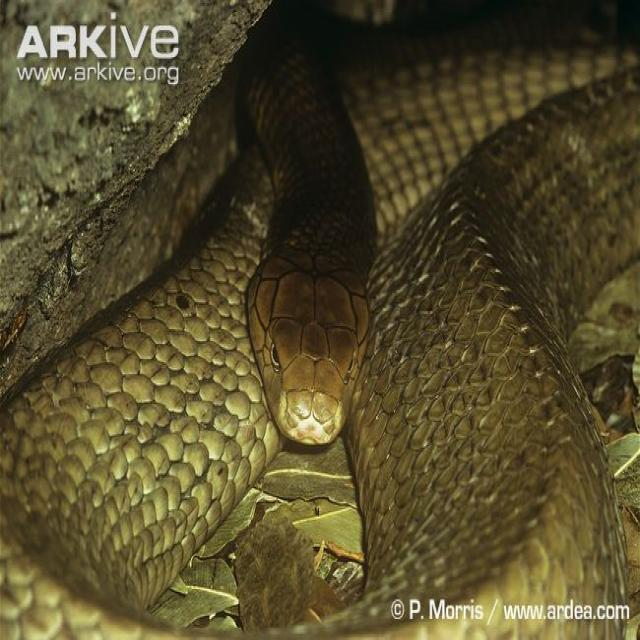Snake: (1, 15, 638, 637)
